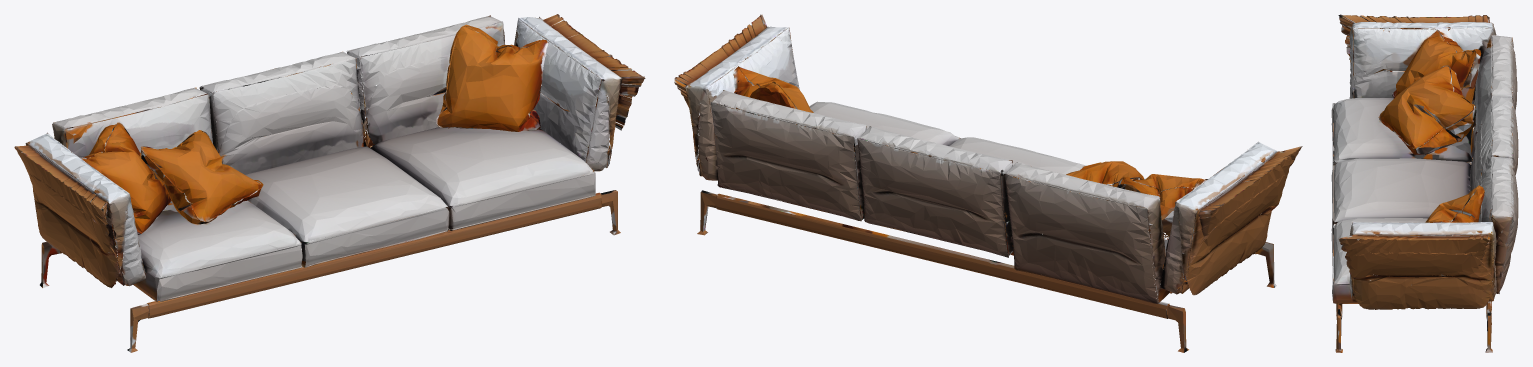
File: edited_mesh.glb
3 views of the same model, side by side, from view 1: azimuth 30°, elevation 25°; view 2: azimuth 150°, elevation 25°; view 3: azimuth 270°, elevation 25° (orthographic). The views are drawn at different scales.
Parts seen in each view (by area): view 1: solid_001_wire; view 2: solid_001_wire; view 3: solid_001_wire.
Part boxes in pixels (x1,y1,x2,y2): solid_001_wire: (14,14,645,352); solid_001_wire: (674,14,1302,352); solid_001_wire: (1331,14,1518,352).
Size of the model in its own units: 2 by 0.577 by 0.7051.
1 material, 1 textured.
